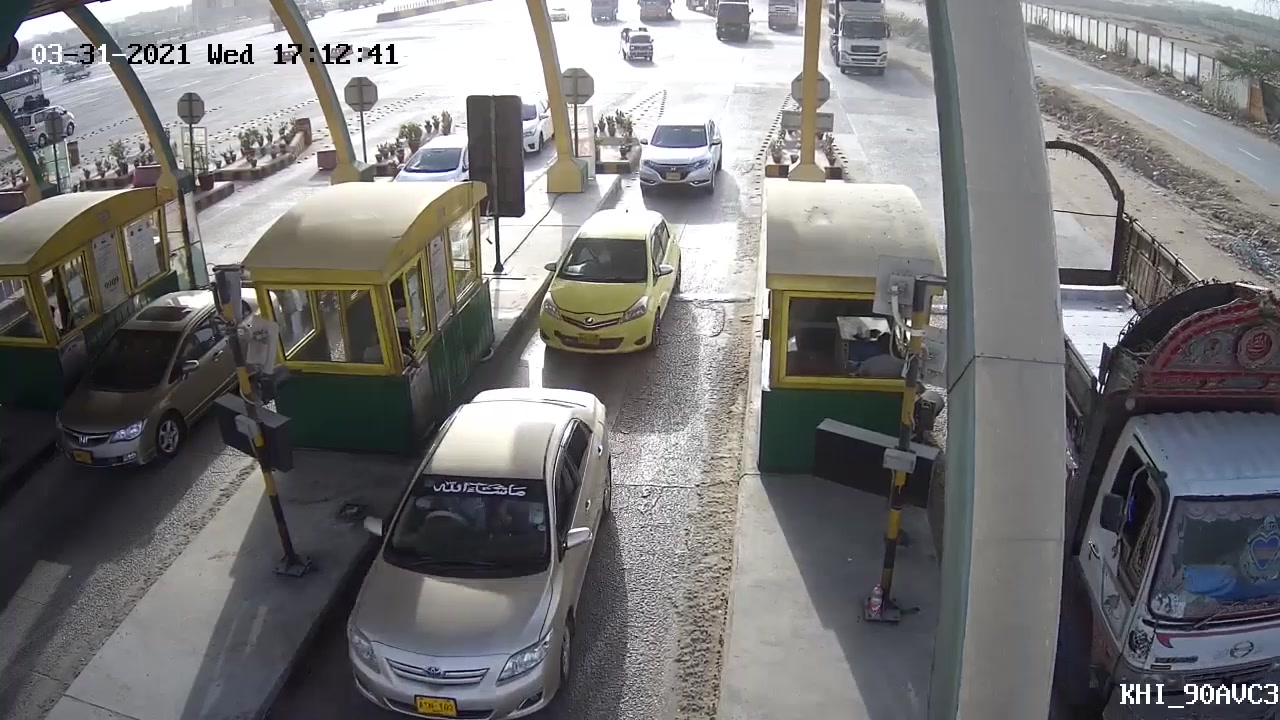F1: (327, 383, 631, 713), (530, 207, 687, 357), (635, 112, 727, 196)
